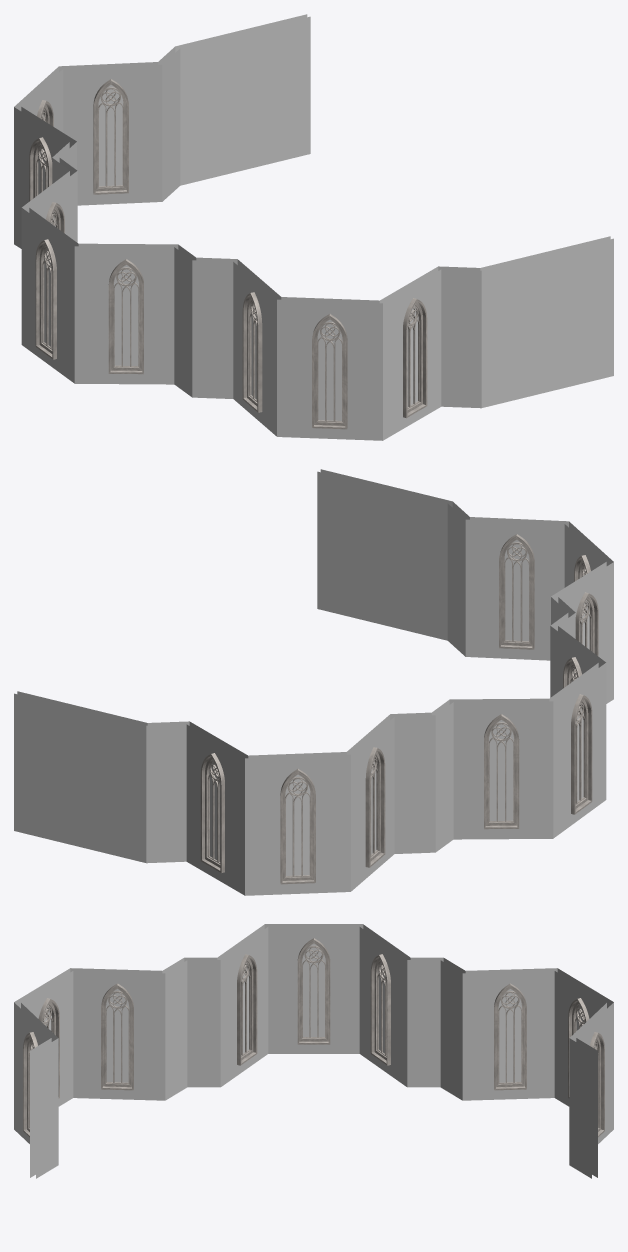
File: Ambulatory_Outer_F_B.fbx
The picture shows the model from 3 angles, top to bottom: view 1: azimuth 30°, elevation 25°; view 2: azimuth 150°, elevation 25°; view 3: azimuth 270°, elevation 25°; orthographic projection. The views are drawn at different scales.
Parts seen in each view (by area): view 1: Ambulatory_Outer_F_B; view 2: Ambulatory_Outer_F_B; view 3: Ambulatory_Outer_F_B.
Boxes of the visible parts, <box> form: Ambulatory_Outer_F_B: <box>14,14,613,440</box>; Ambulatory_Outer_F_B: <box>14,469,613,895</box>; Ambulatory_Outer_F_B: <box>14,924,613,1178</box>.
Size of the model in its own units: 19.02 by 25.64 by 6.
